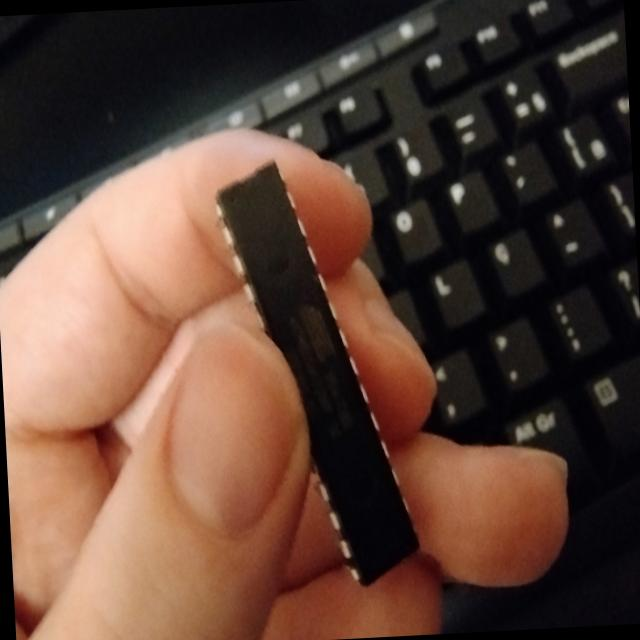atmega: (208, 148, 424, 596)
